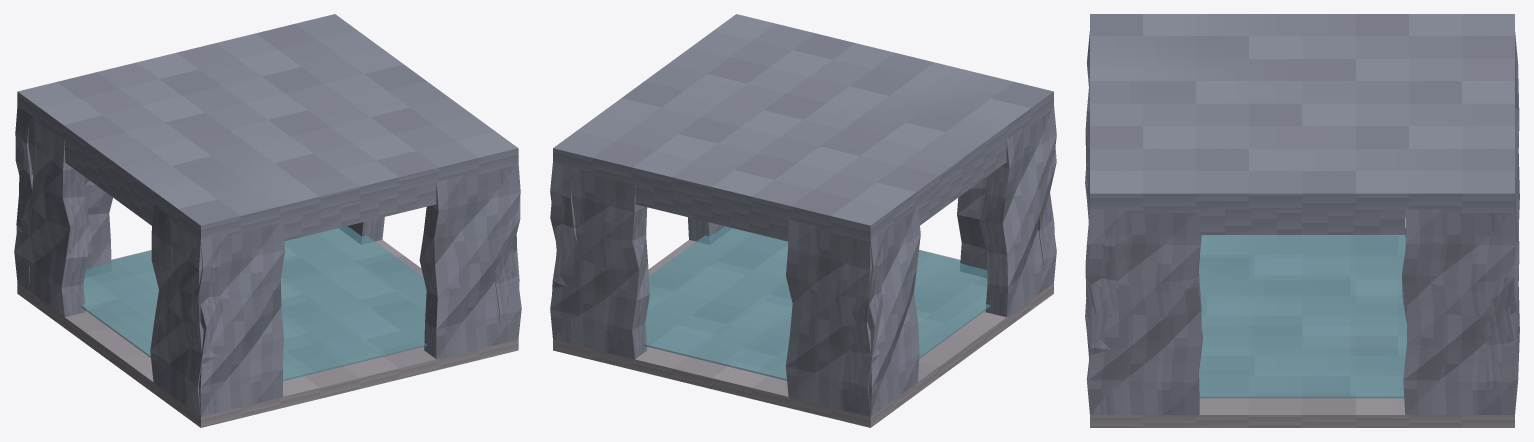
The model's file is cave-and-crystal-networks-flooded-chamber-a20f82df.glb.
The picture shows the model from 3 angles, left to right: view 1: azimuth 30°, elevation 25°; view 2: azimuth 150°, elevation 25°; view 3: azimuth 270°, elevation 25°; orthographic projection. The views are drawn at different scales.
Parts seen in each view (by area): view 1: flooded-chamber; view 2: flooded-chamber; view 3: flooded-chamber.
Boxes of the visible parts, x1=… form: flooded-chamber: x1=14, y1=14, x2=521, y2=427; flooded-chamber: x1=550, y1=14, x2=1056, y2=427; flooded-chamber: x1=1085, y1=14, x2=1519, y2=427.
Bounding box in the file's own units: 6.14 × 3.65 × 6.14.
3 materials, 3 textured.
